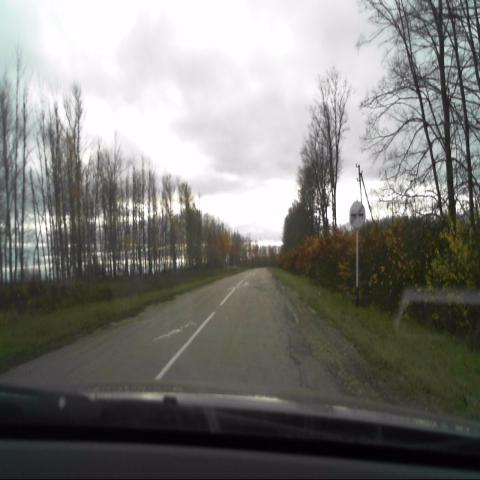3_21: (349, 200, 365, 230)
